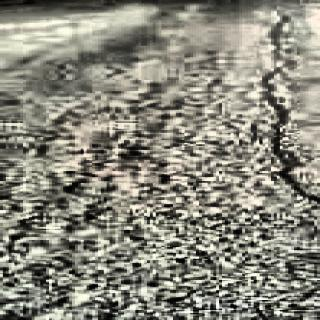crack: (252, 4, 320, 204)
